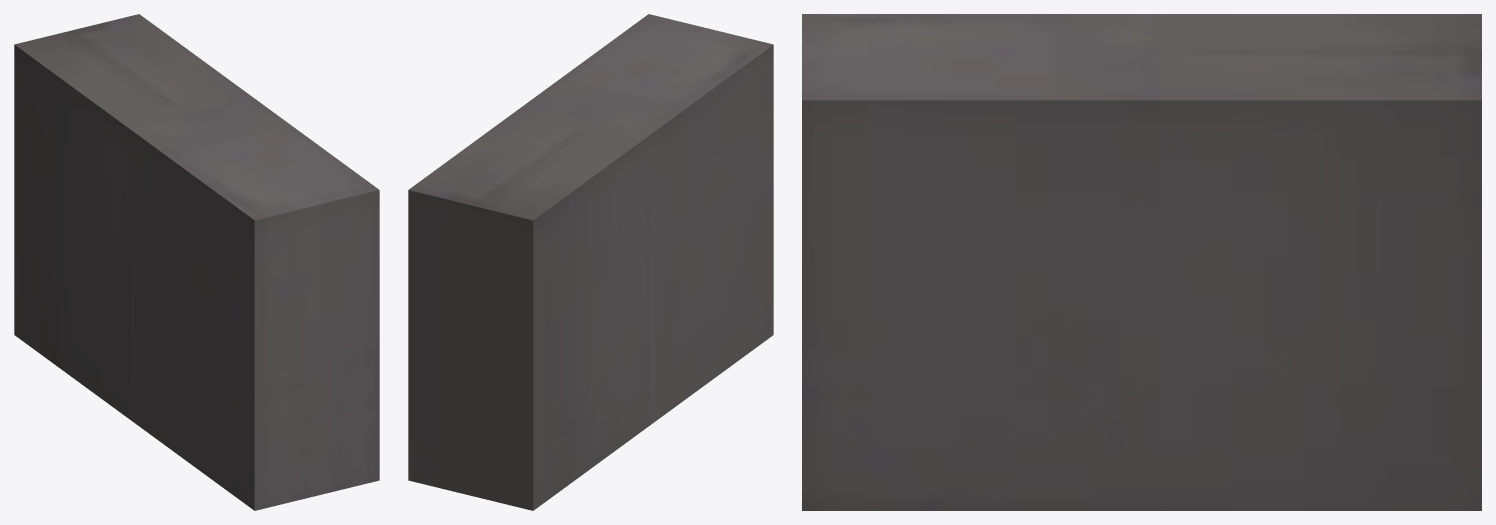
File: frame__pivot_lug_1.glb
3 renders of one model, left to right at view 1: azimuth 30°, elevation 25°; view 2: azimuth 150°, elevation 25°; view 3: azimuth 270°, elevation 25°, orthographic. The views are drawn at different scales.
Parts seen in each view (by area): view 1: world; view 2: world; view 3: world.
Boxes of the visible parts, bbox=[...] form: world: bbox=[14, 14, 379, 510]; world: bbox=[408, 14, 773, 510]; world: bbox=[802, 14, 1481, 510].
Size of the model in its own units: 0.018 by 0.04 by 0.06.
1 material, 1 textured.
